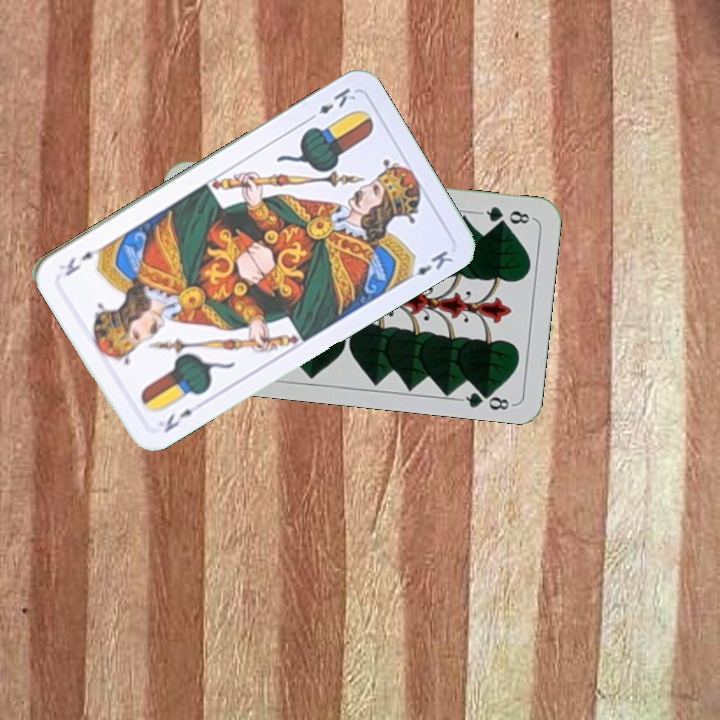EK: (303, 84, 359, 124), (159, 400, 206, 436)
G8: (476, 202, 535, 228)
